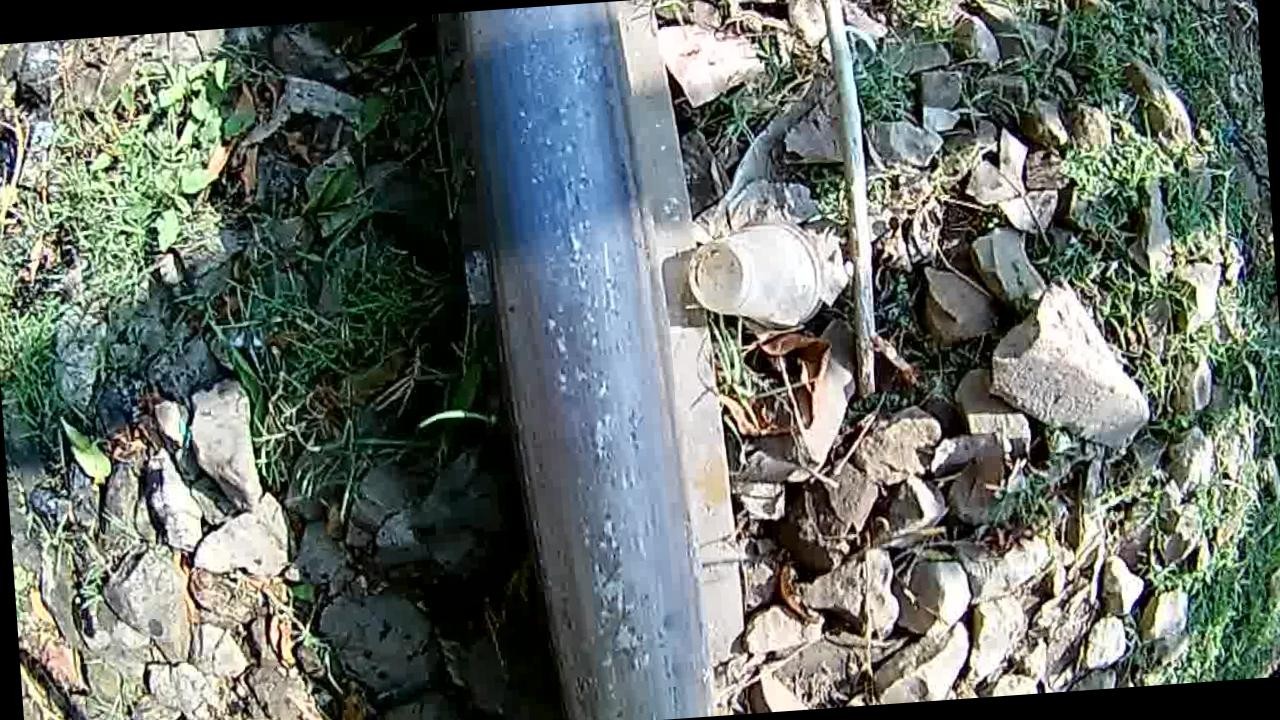clip_missing: (458, 1, 700, 720)
